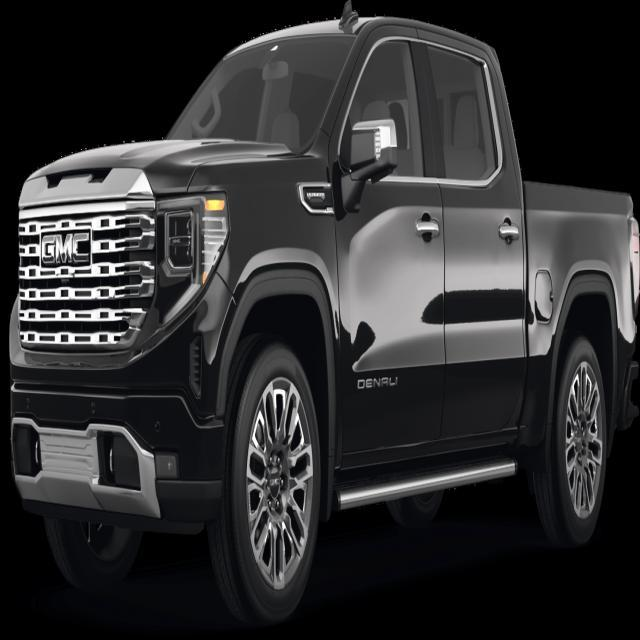person: (9, 2, 638, 630)
